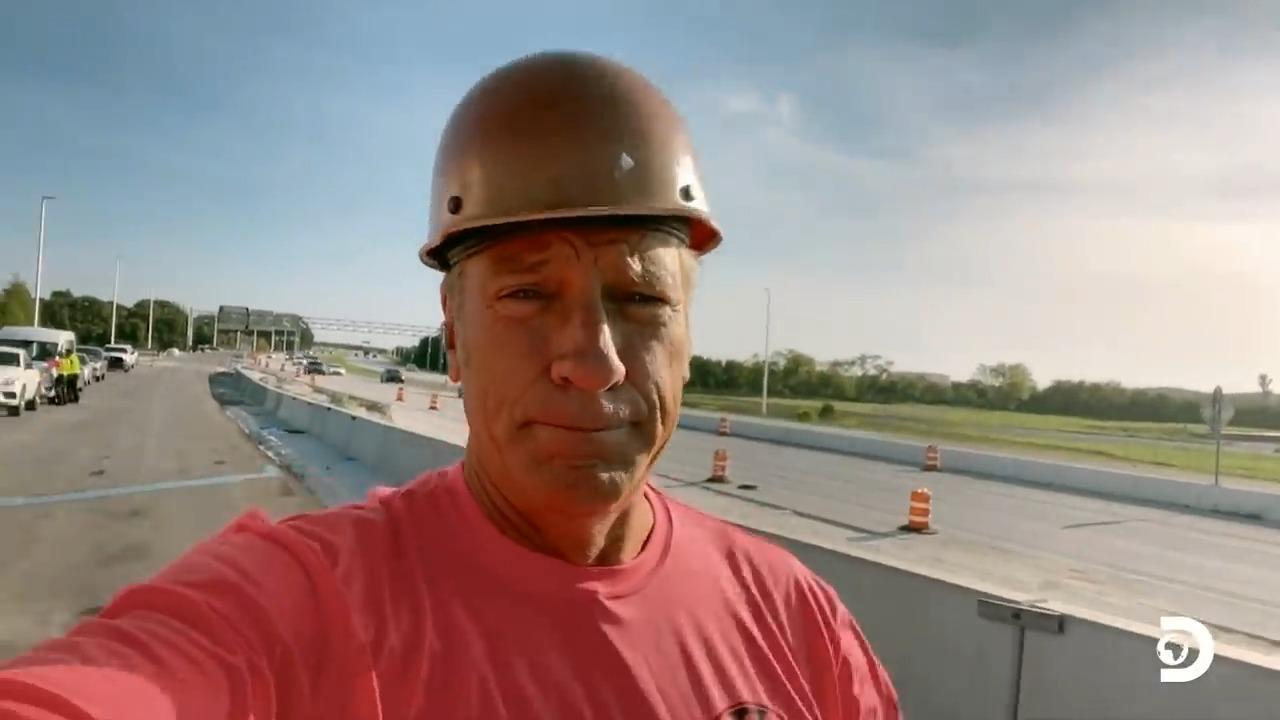Helmet: (417, 49, 723, 271)
Person: (20, 46, 923, 717)
no-vest: (258, 532, 772, 720)
